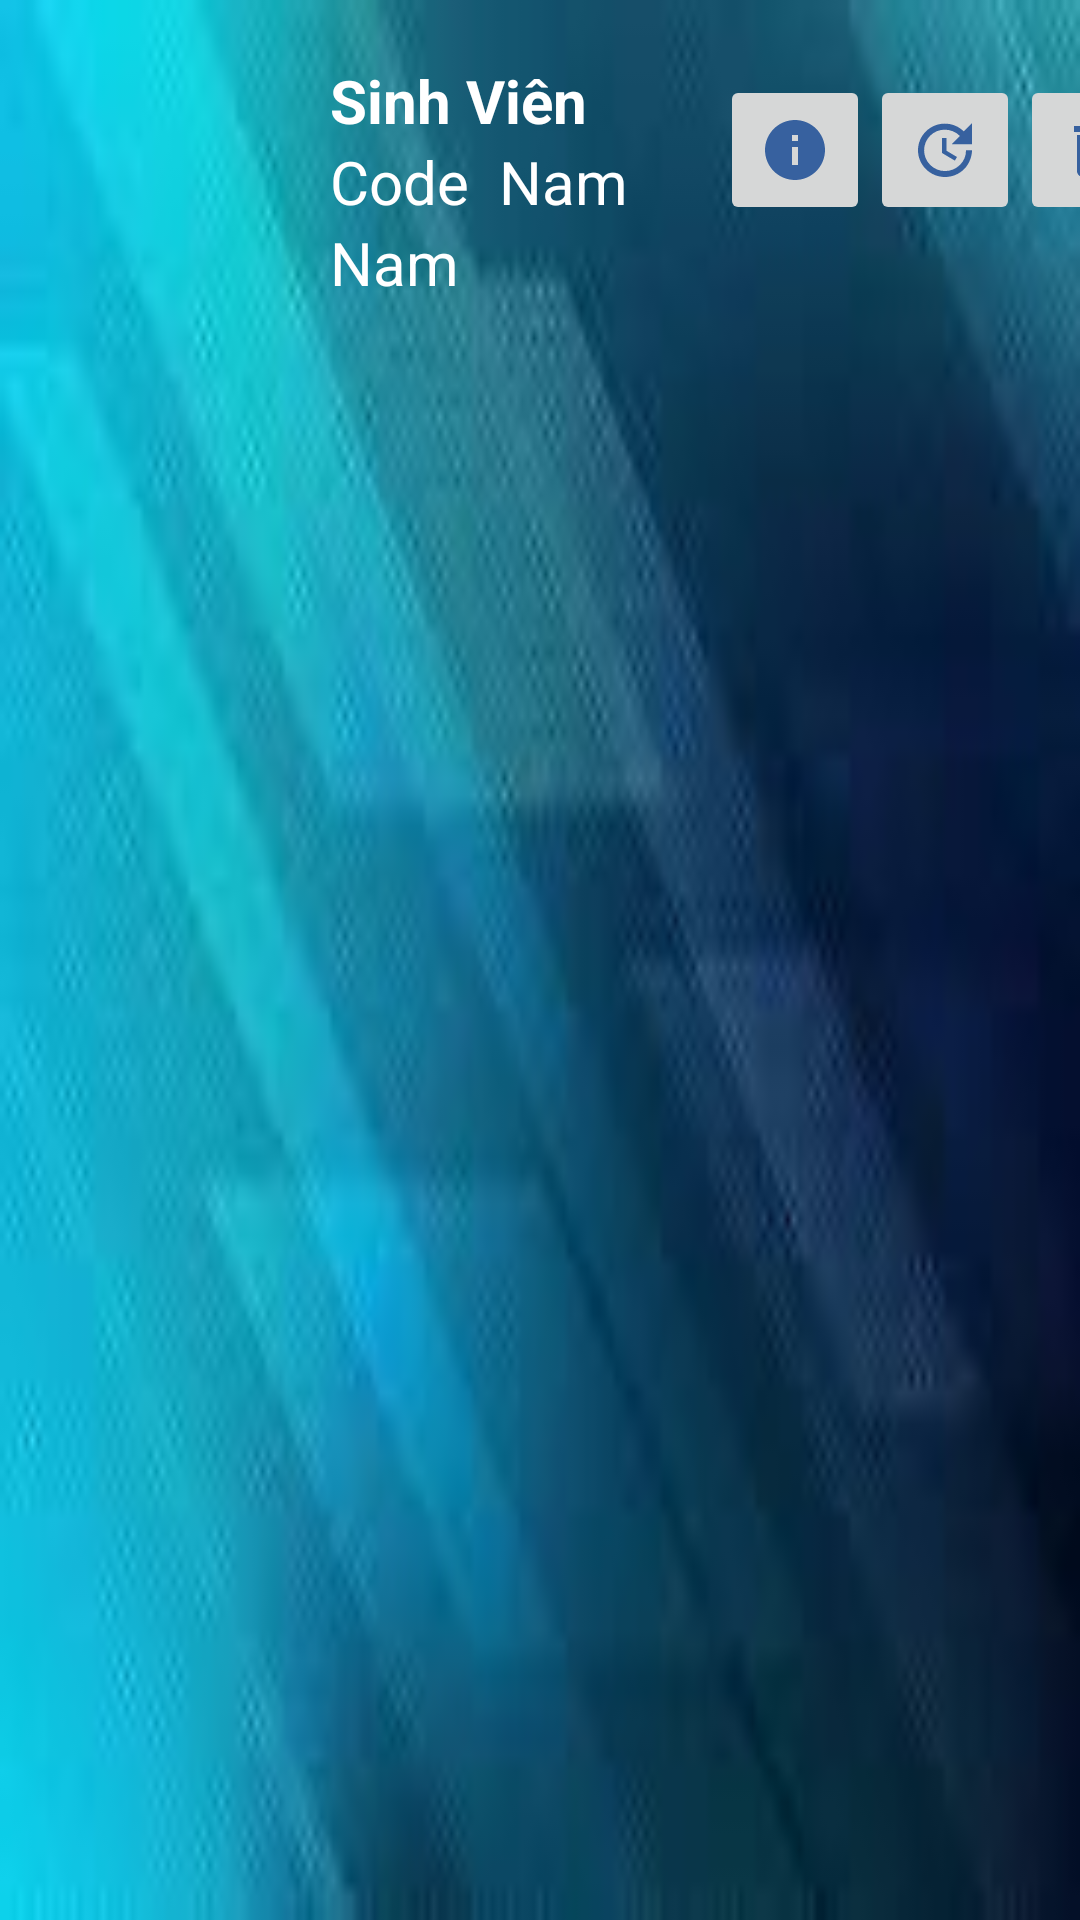

Icon click points for this 1080px×1920px phone screenshot, format [x,y]:
info: [793,153]
update: [945,150]
